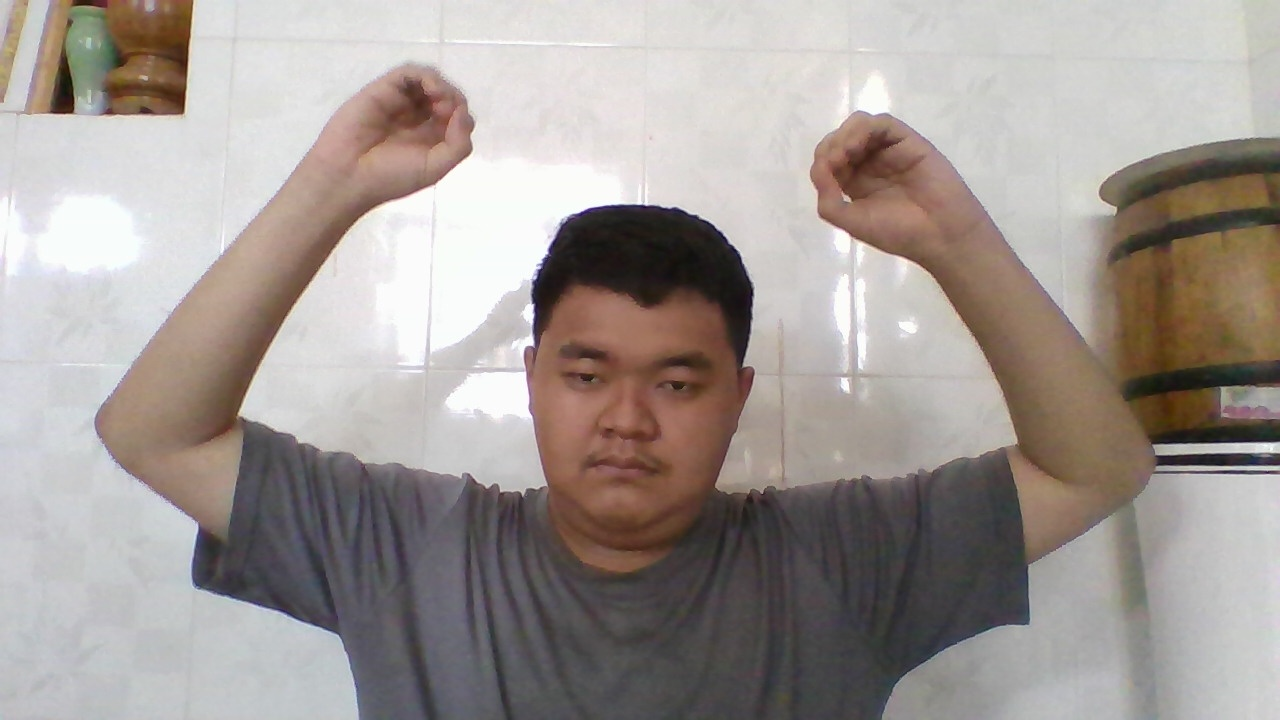O: (804, 103, 961, 258), (328, 54, 483, 199)
